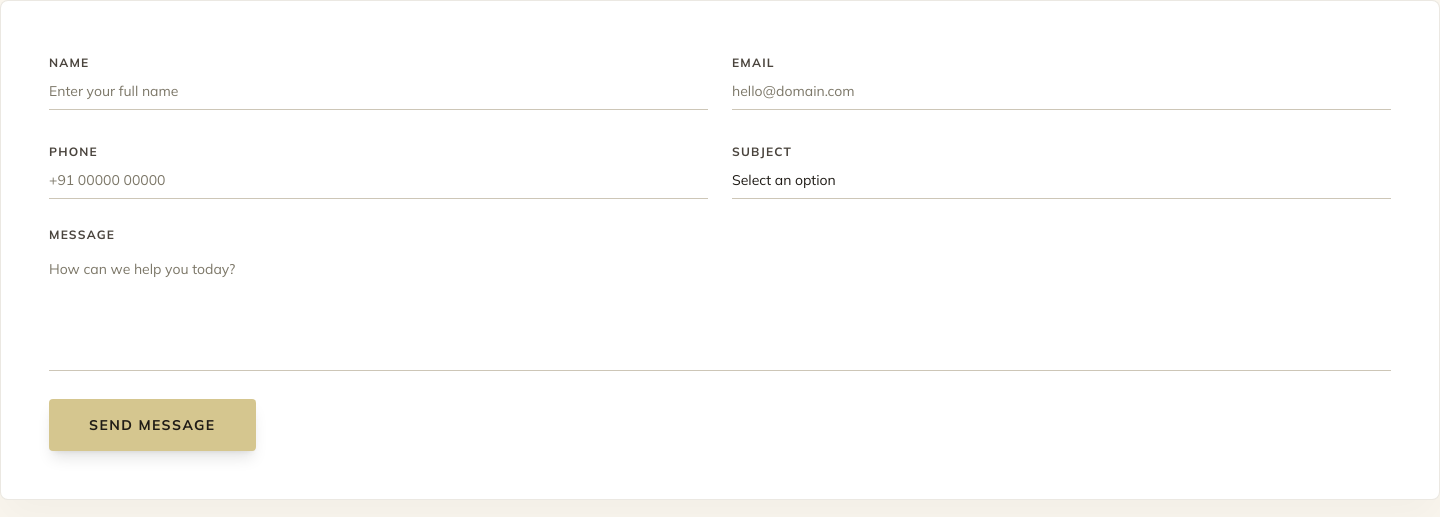
it: ContactForm › Zod validation › rejects a name containing numbers (pasted) with a validation message
Click the field with test id "contact-name-input".
click(378, 92)  # box top-left (49, 73), bottom-right (708, 110)
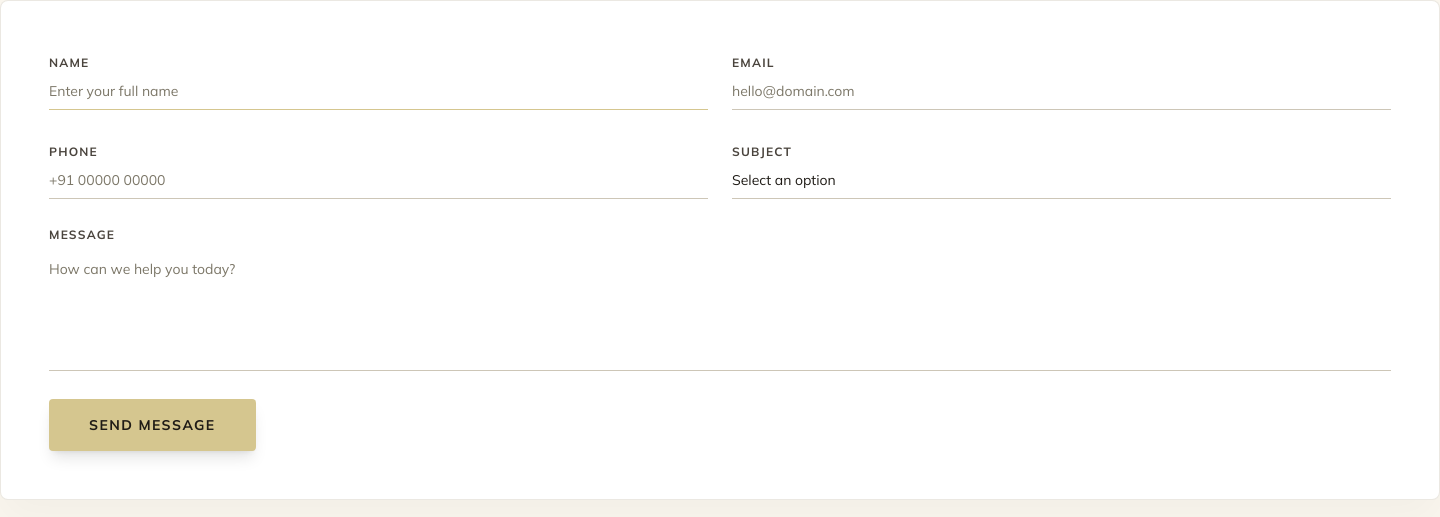
Type keys "John123"
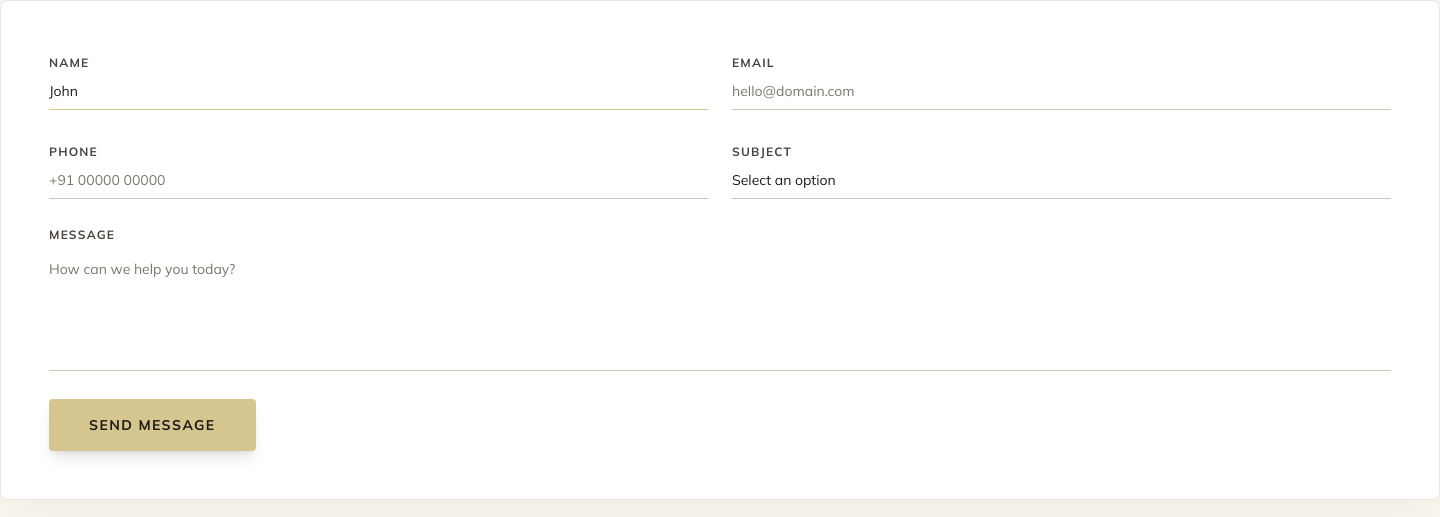
Check: the field with test id "contact-name-input" holds "John", box top-left (49, 73), bottom-right (708, 110)
